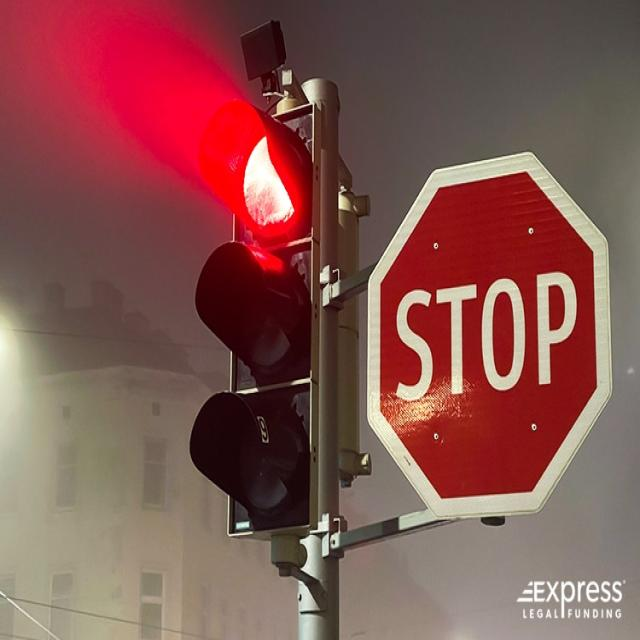red: (212, 100, 310, 236)
